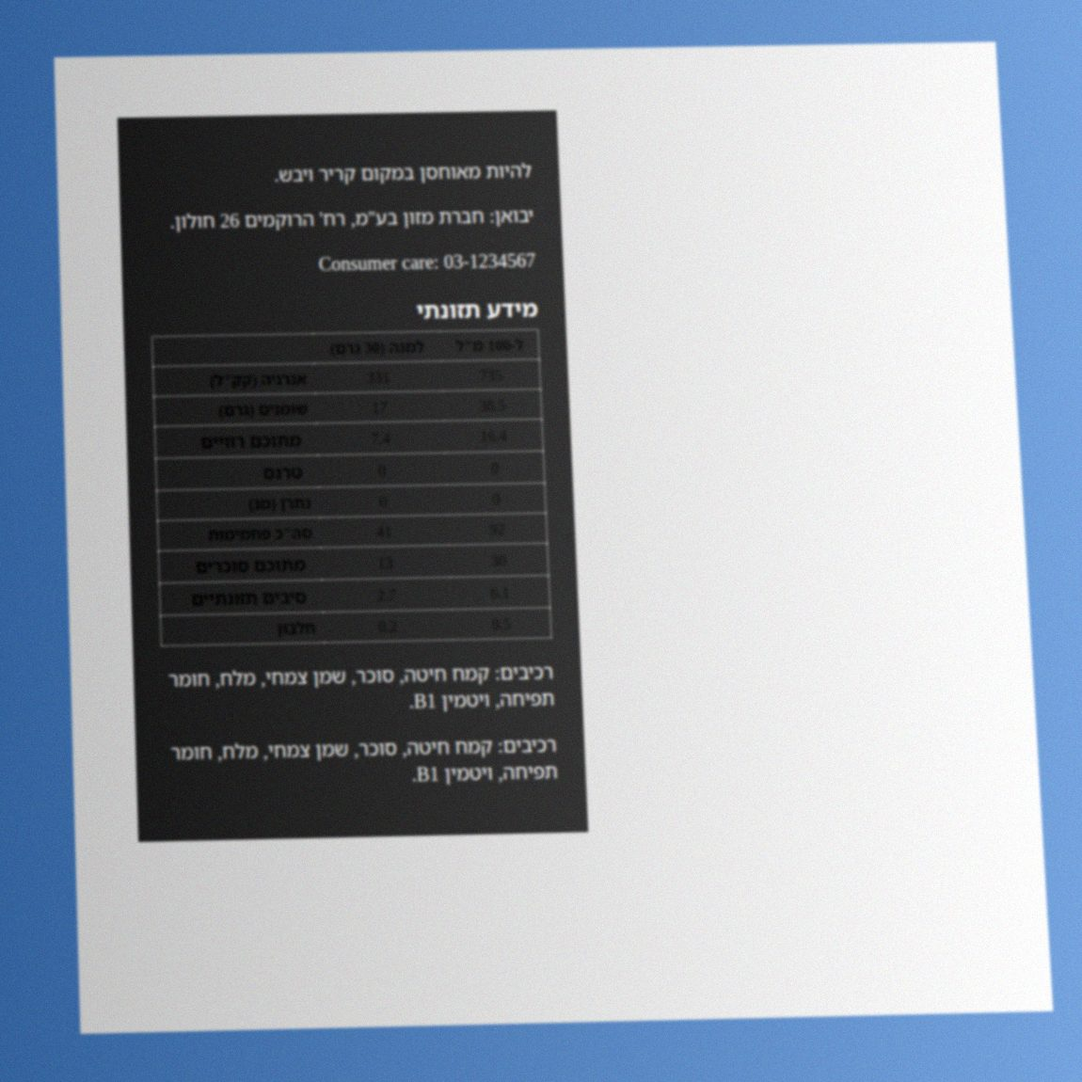carbs: (487, 516, 508, 543)
energy: (476, 362, 505, 389)
fat: (476, 392, 509, 418)
protein: (489, 610, 514, 637)
